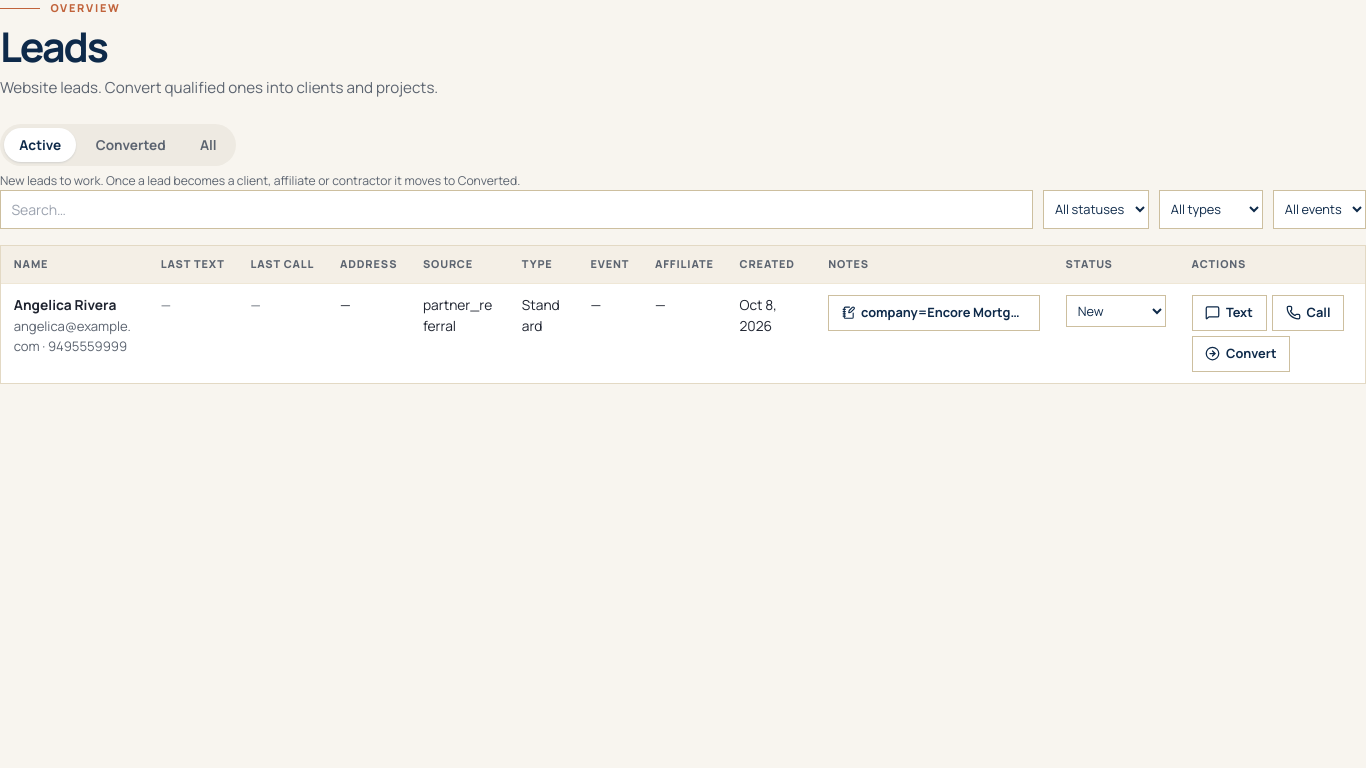
it: Admin Leads Convert modal › shows phone-link confirm when API returns phone_match
The image size is (1366, 768).
Expected: the text "Angelica Rivera" is shown, [14, 295, 116, 314]
Click the button "Convert": (1241, 354) [1192, 336, 1290, 372]
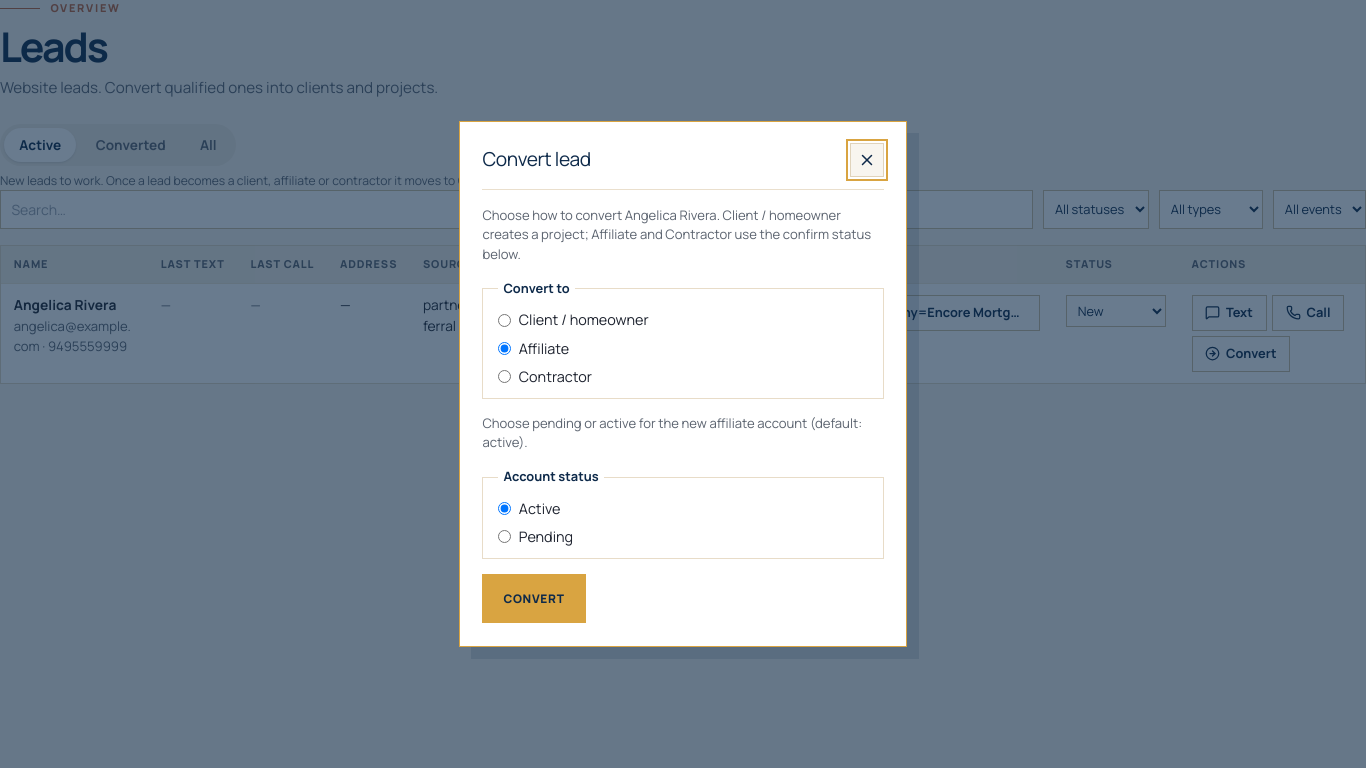
Click the button "Convert": (534, 598) [482, 574, 586, 623]
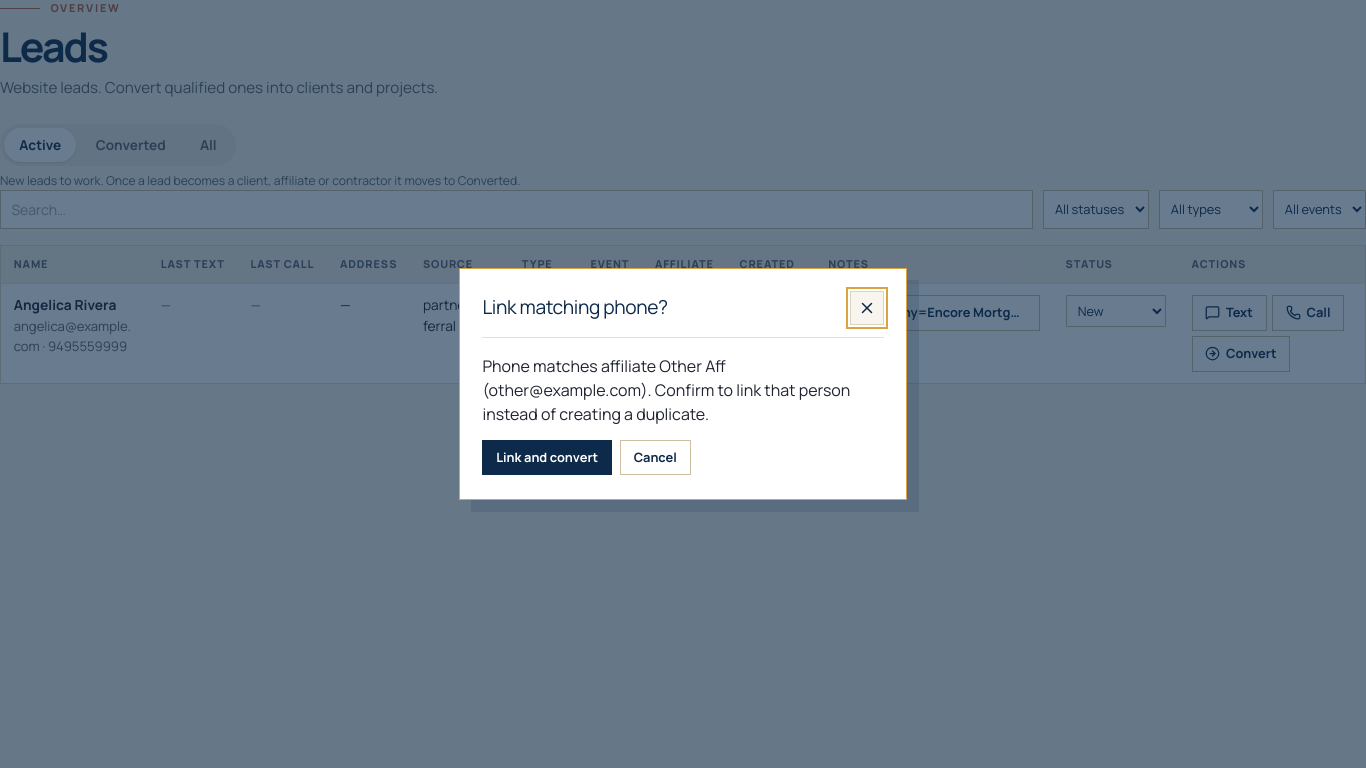
Result: the dialog "Link matching phone?" is shown at [459, 268, 907, 500]
Result: the text "Other Aff" is shown at [482, 354, 850, 424]
